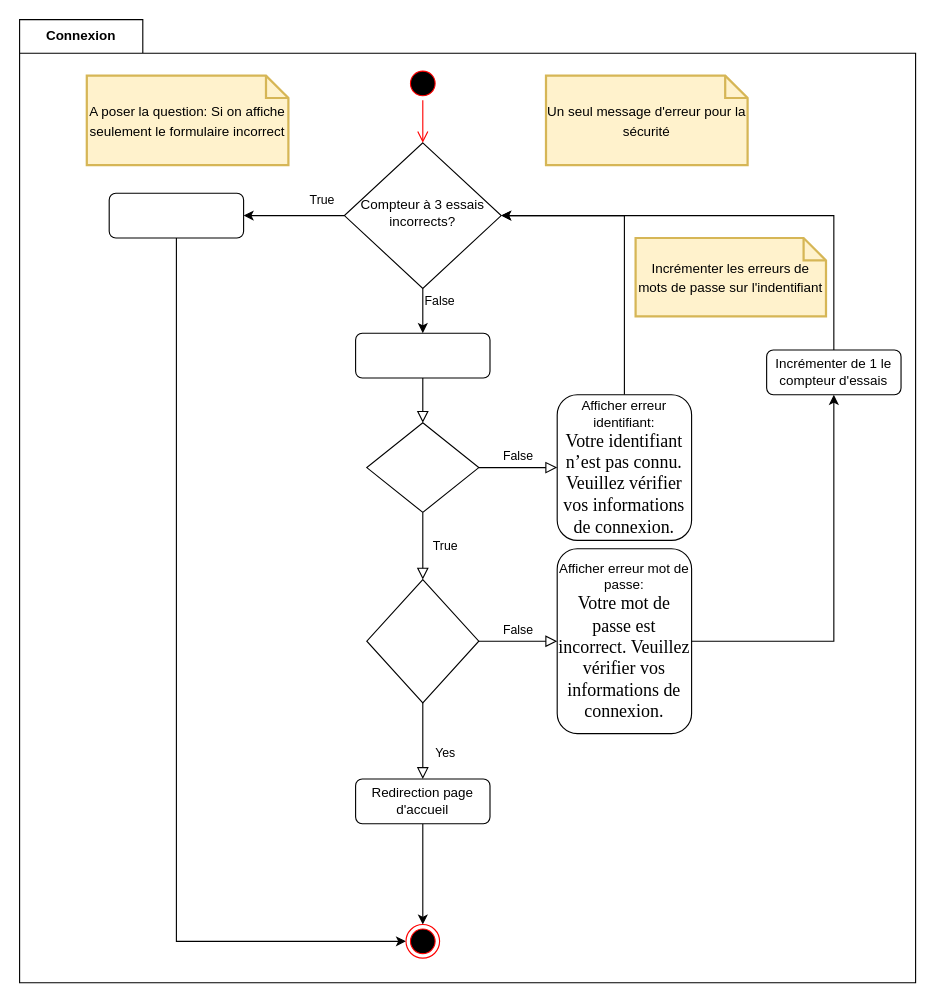
The diagram is 935 pixels wide and 1002 high, and some of its shapes have lost their labels. Here are the shapes that lost their labels. From the top down, the box of each, then its label:
(108, 192, 244, 238): Afficher l'erreur blocage du compte
(354, 332, 490, 378): Saisir identifiant et mot de passe
(366, 422, 479, 512): Identifiant valide
(366, 578, 479, 703): Mot de passe valide
